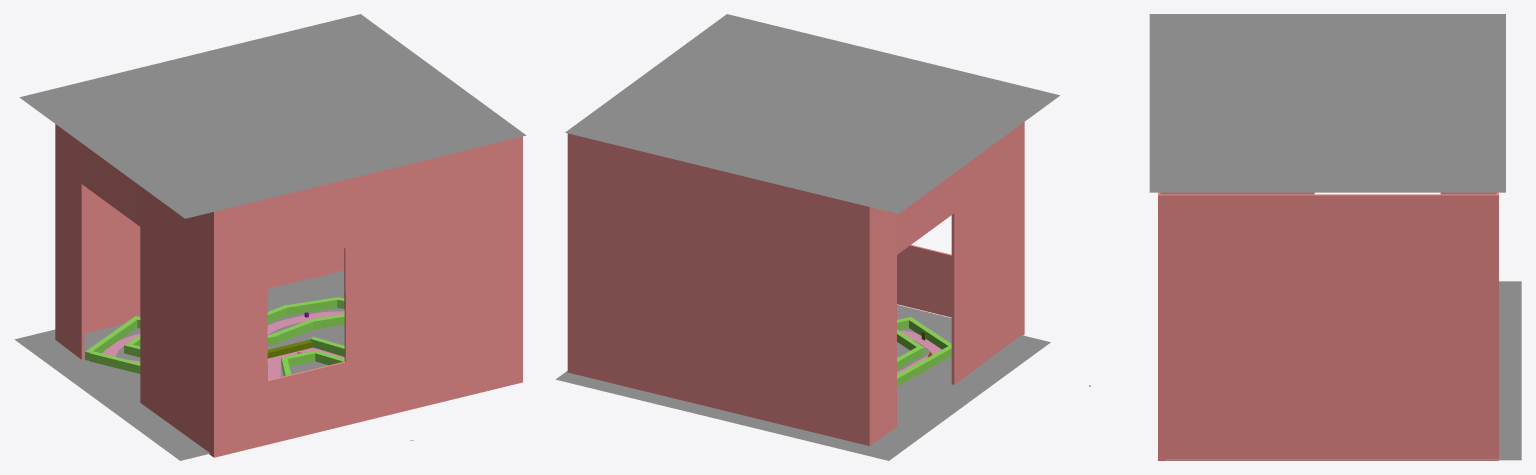
Rendered from BasicoMuros2.DAE.
3 views of the same model, side by side, from view 1: azimuth 30°, elevation 25°; view 2: azimuth 150°, elevation 25°; view 3: azimuth 270°, elevation 25° (orthographic). The views are drawn at different scales.
Parts seen in each view (by area): view 1: Line002, Plane003, Plane001, Line001, Box018, Box035, Box016; view 2: Line002, Plane003, Plane001, Box014; view 3: Line002, Plane003, Plane001.
Boxes of the visible parts, x1=… form: Line002: x1=55, y1=124, x2=522, y2=457; Plane003: x1=19, y1=14, x2=526, y2=218; Plane001: x1=14, y1=270, x2=344, y2=460; Line001: x1=102, y1=311, x2=344, y2=379; Box018: x1=85, y1=316, x2=140, y2=360; Box035: x1=287, y1=297, x2=339, y2=315; Box016: x1=90, y1=351, x2=140, y2=373; Line002: x1=567, y1=122, x2=1024, y2=445; Plane003: x1=565, y1=14, x2=1059, y2=213; Plane001: x1=556, y1=304, x2=1050, y2=460; Box014: x1=897, y1=346, x2=951, y2=386; Line002: x1=1158, y1=192, x2=1498, y2=460; Plane003: x1=1149, y1=14, x2=1505, y2=192; Plane001: x1=1165, y1=281, x2=1521, y2=460.
Size of the model in its own units: 3041 by 3085 by 2116.
Materials: 9 (1 with a texture image).
